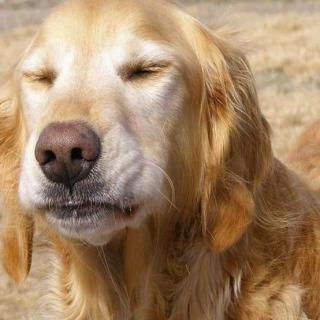dog: (0, 0, 277, 279)
nose: (30, 118, 106, 189)
